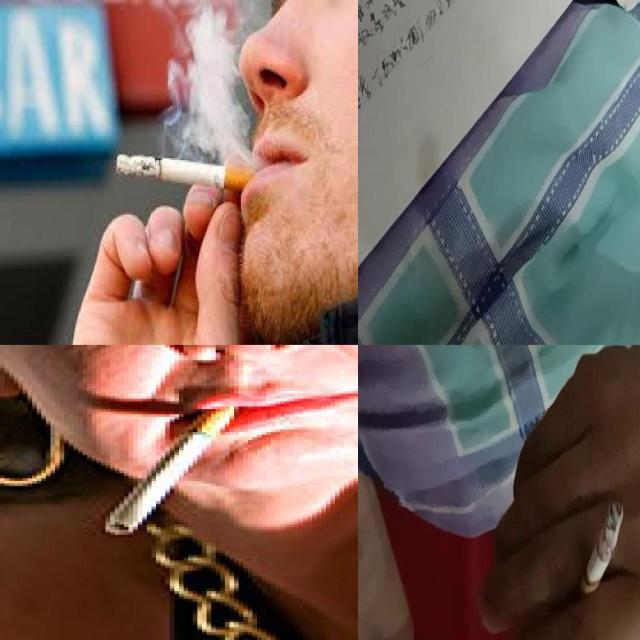smoking: (102, 404, 238, 536), (116, 154, 268, 192), (577, 502, 625, 606)
